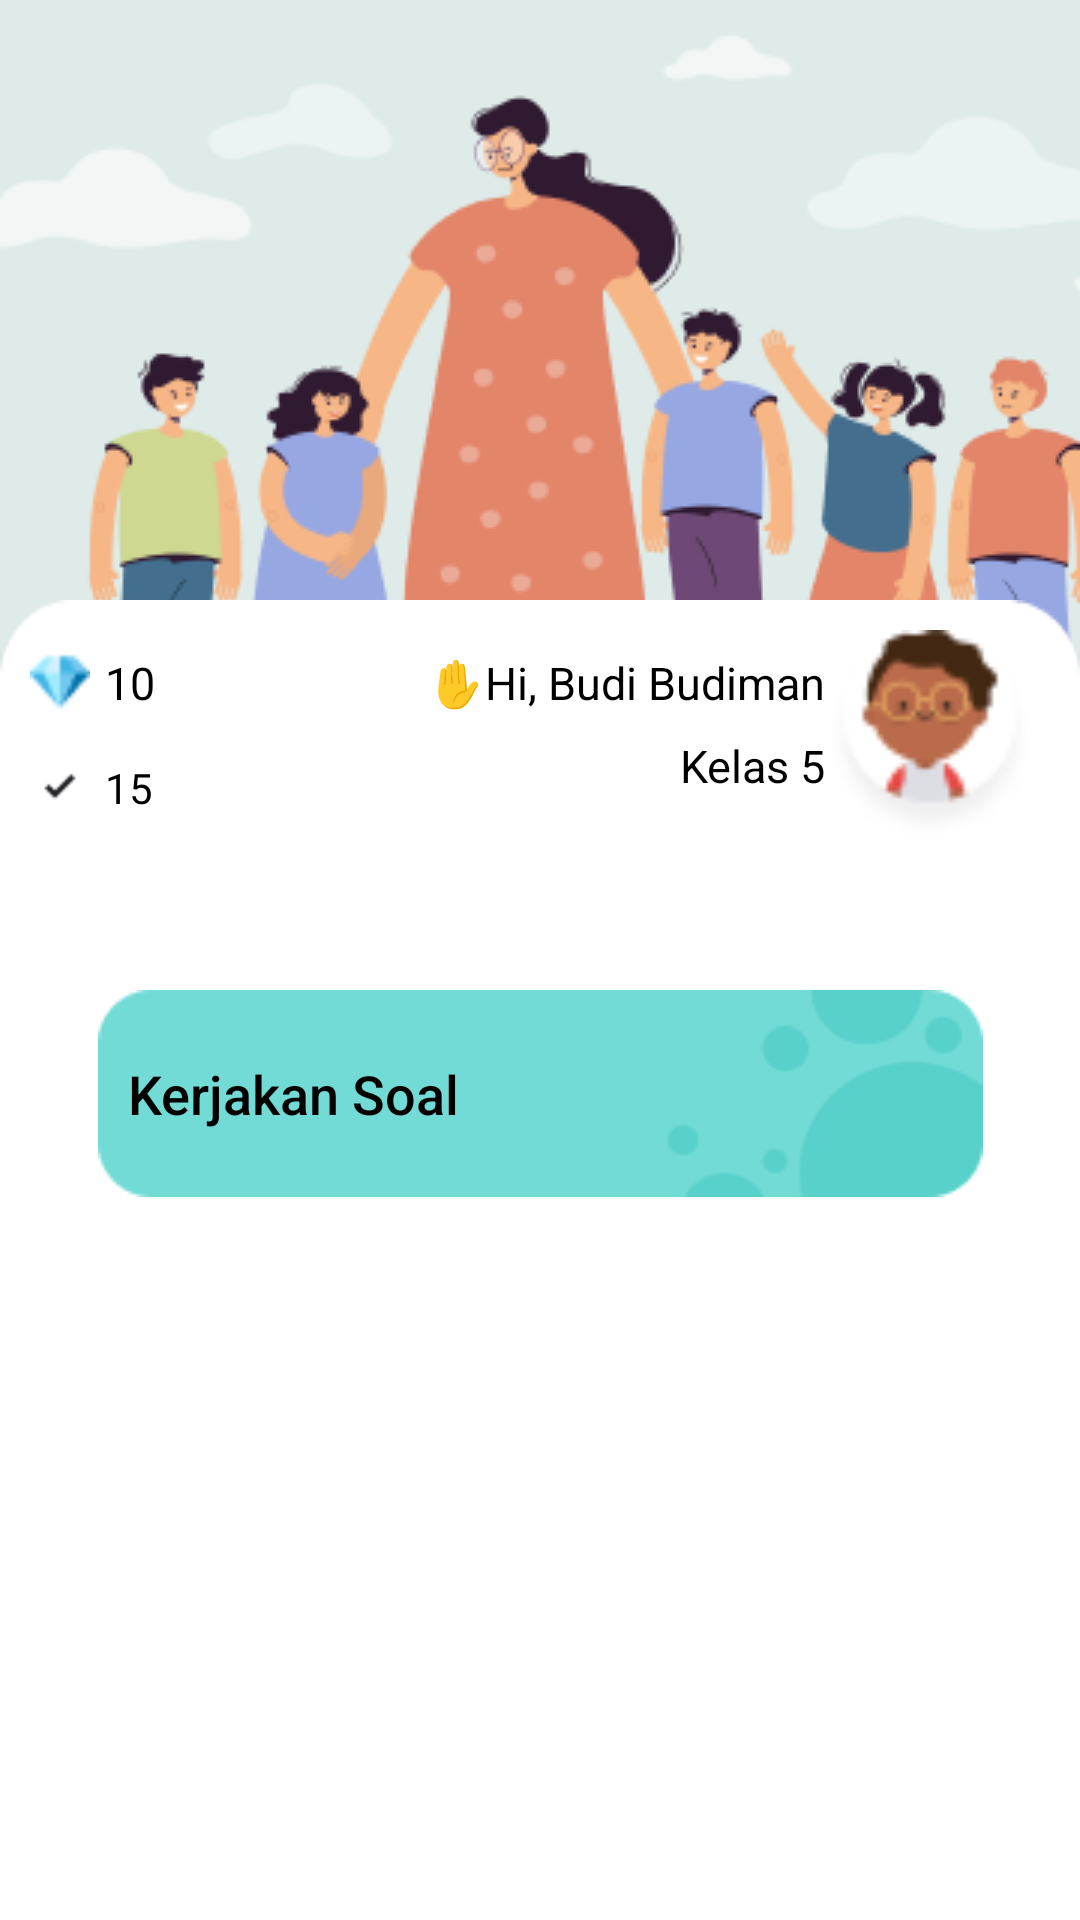

Screen size 1080*1920. Icon name, then its center in pixels as [x,y]:
profile picture: [930,716]
